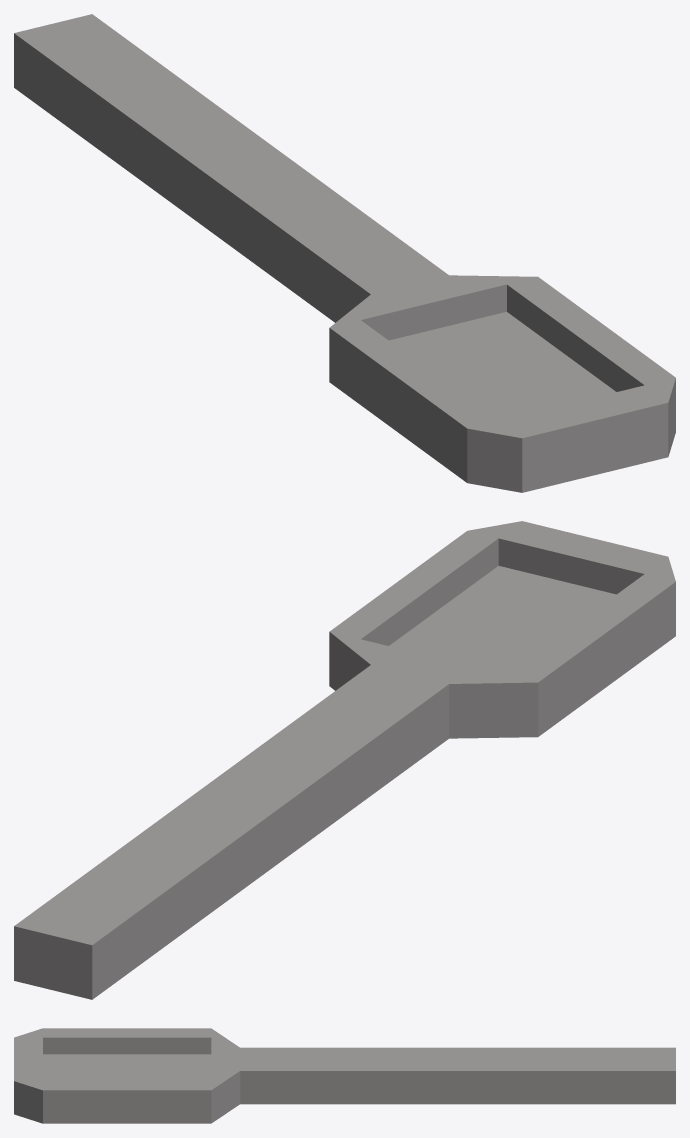
The model's file is ospoon.FBX.
3 renders of one model, top to bottom at view 1: azimuth 30°, elevation 25°; view 2: azimuth 150°, elevation 25°; view 3: azimuth 270°, elevation 25°, orthographic. The views are drawn at different scales.
Visible parts, largest first — view 1: Spoon; view 2: Spoon; view 3: Spoon.
Boxes of the visible parts, x1=… form: Spoon: x1=14, y1=14, x2=675, y2=492; Spoon: x1=14, y1=521, x2=675, y2=999; Spoon: x1=14, y1=1028, x2=675, y2=1123.
Bounding box in the file's own units: 9.53 × 42.87 × 2.38.
Materials: 1 (1 with a texture image).
